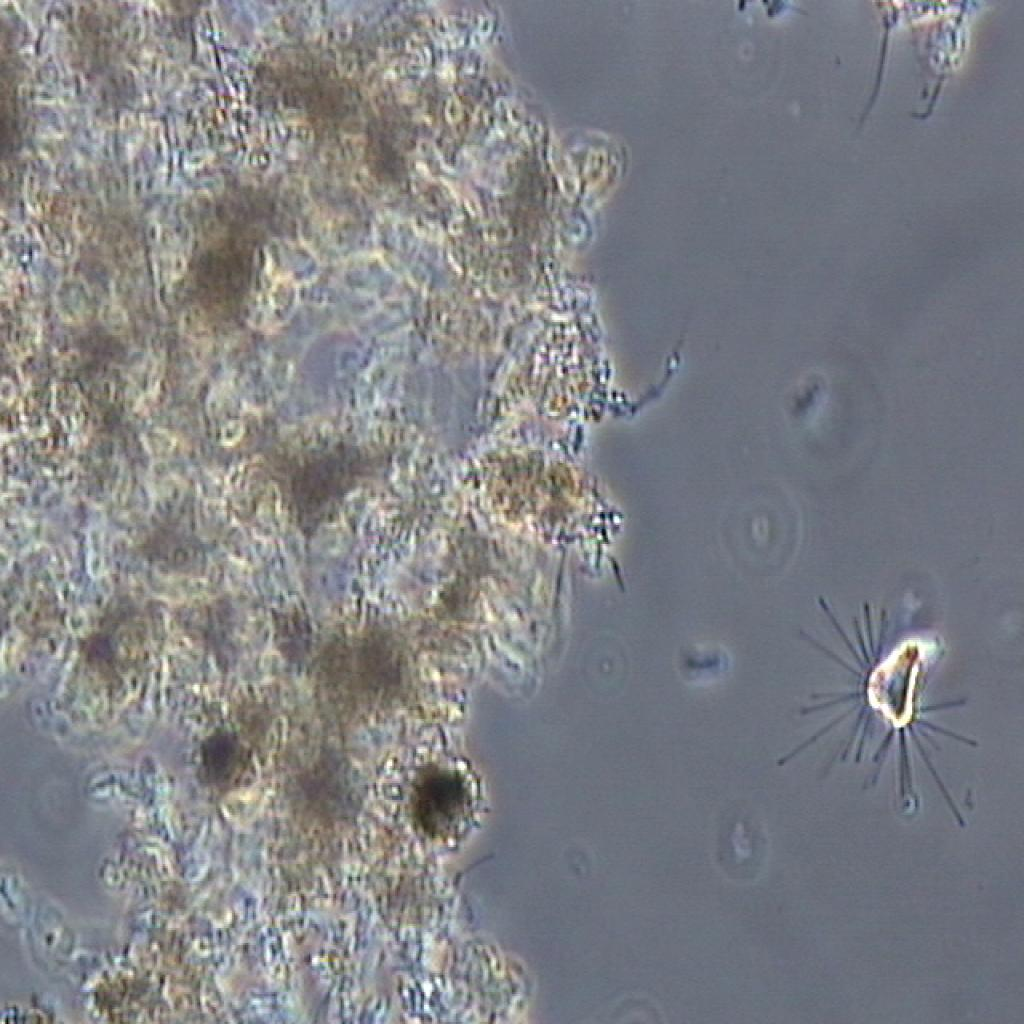Suctorida: (793, 550, 993, 847)
